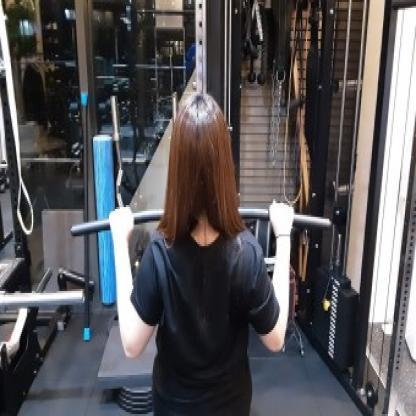Lat Pull Down: (61, 0, 345, 416)
